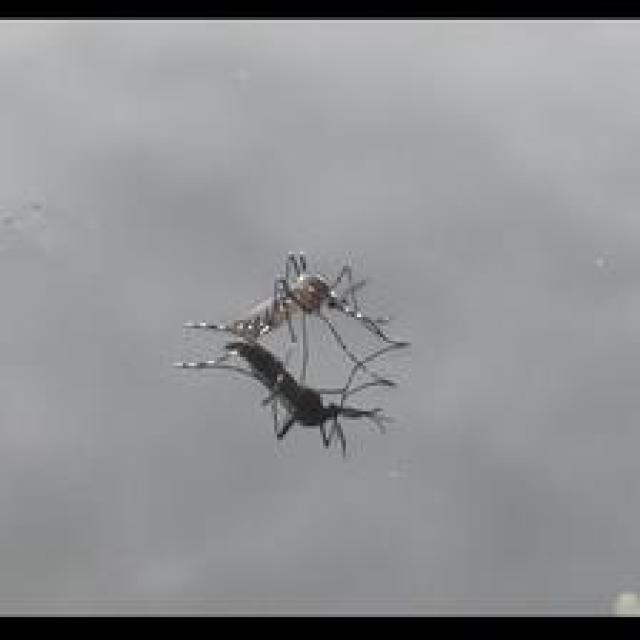Aedes albopictus: (173, 337, 398, 457)
